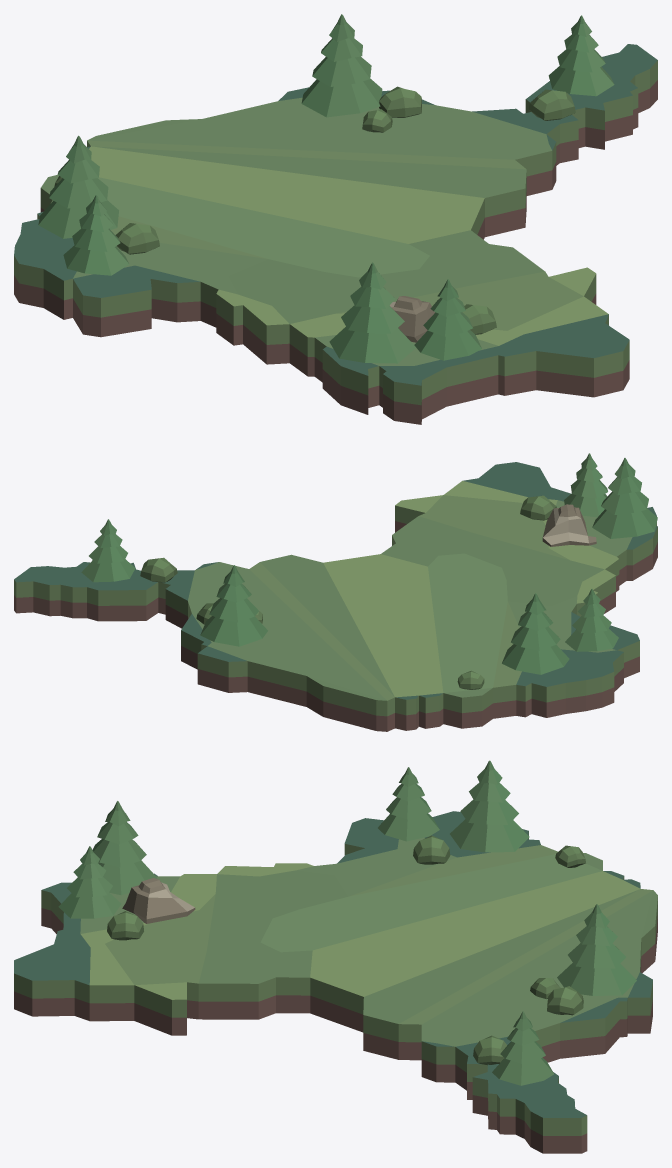
File: olekminsk.gltf
3 views of the same model, one above another, from view 1: azimuth 30°, elevation 25°; view 2: azimuth 150°, elevation 25°; view 3: azimuth 270°, elevation 25° (orthographic). The views are drawn at different scales.
Parts seen in each view (by area): view 1: олекминск; view 2: олекминск; view 3: олекминск.
Boxes of the visible parts, x1,y1,x2,y2 form: олекминск: (14,14,657,424); олекминск: (14,453,657,731); олекминск: (14,760,657,1153).
Bounding box in the file's own units: 2.87 × 0.5325 × 2.54.
